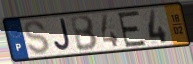4: (147, 8, 170, 46), (101, 13, 121, 49)
B: (68, 14, 100, 53)
E: (116, 9, 148, 49)
J: (53, 18, 73, 53)
S: (23, 19, 51, 56)
